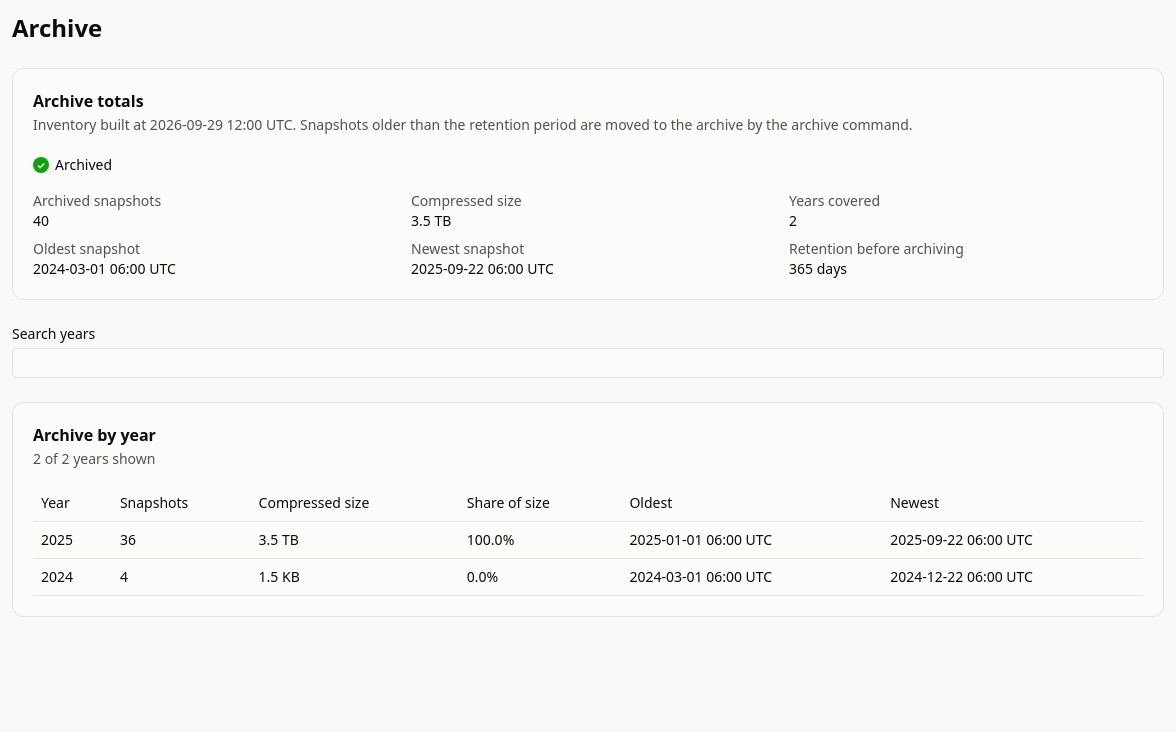
Test: Archive page › filters years by search and reports no match
The width and height of the screenshot is (1176, 732).
Expected: the table named "Archive by year" is shown, [33,485,1143,596]
Type "2024" into the search field labelled "Search years" at point(588, 363), box [12,348,1164,378]
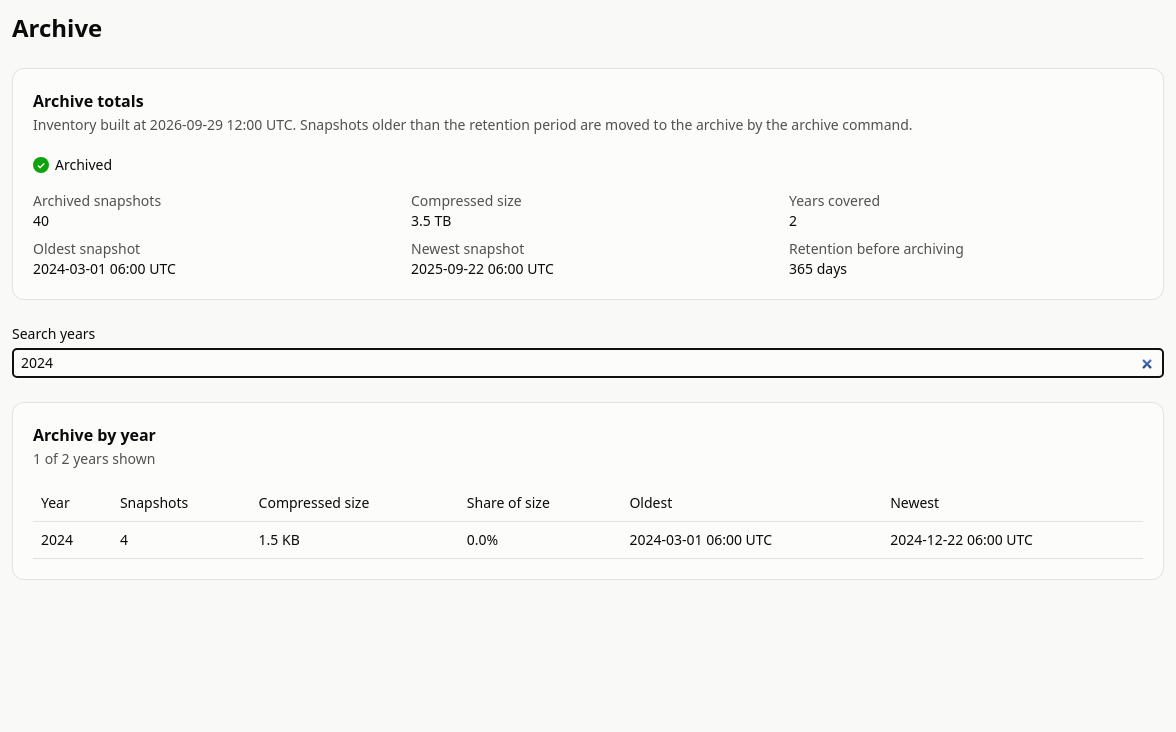
Now the number of rows is 2, box [33,485,1143,522]; [33,522,1143,559]
Now the text "1 of 2 years shown" is shown, box [33,449,156,468]
Replace the text in the search field labelled "Search years" with "zzzz" at point(588, 363), box [12,348,1164,378]
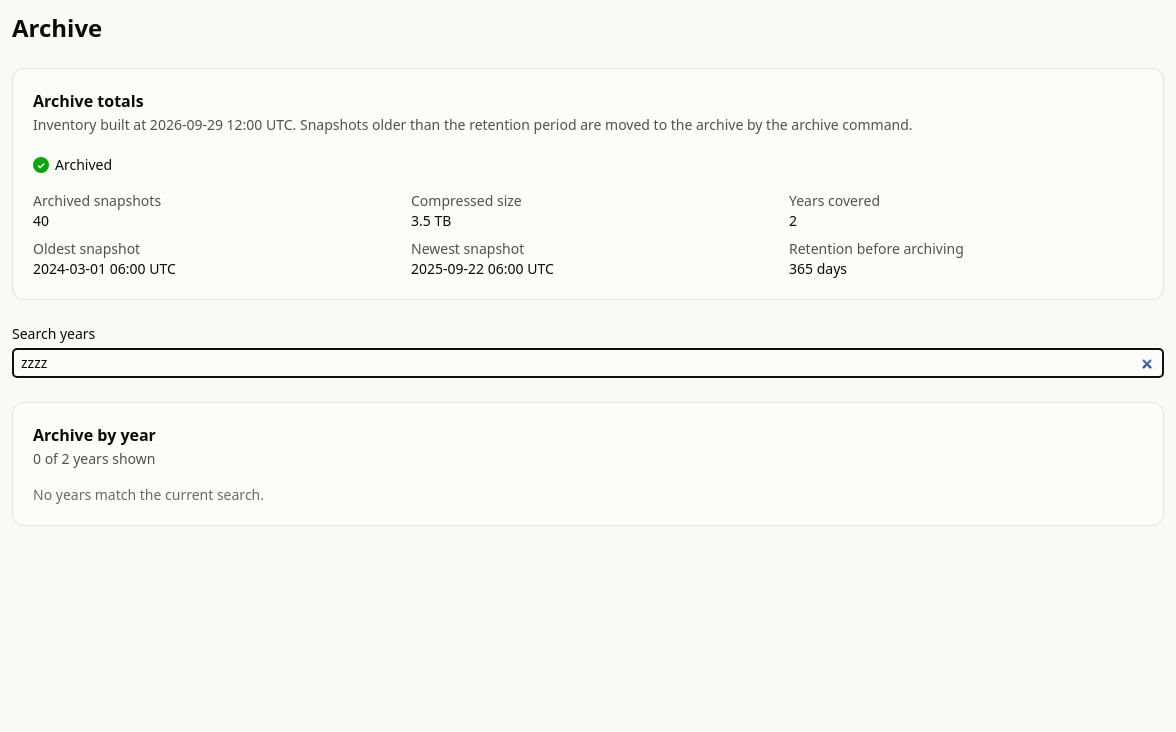
Now the text "No years match the current search." is shown, box [33,485,264,504]
Now the table is gone
